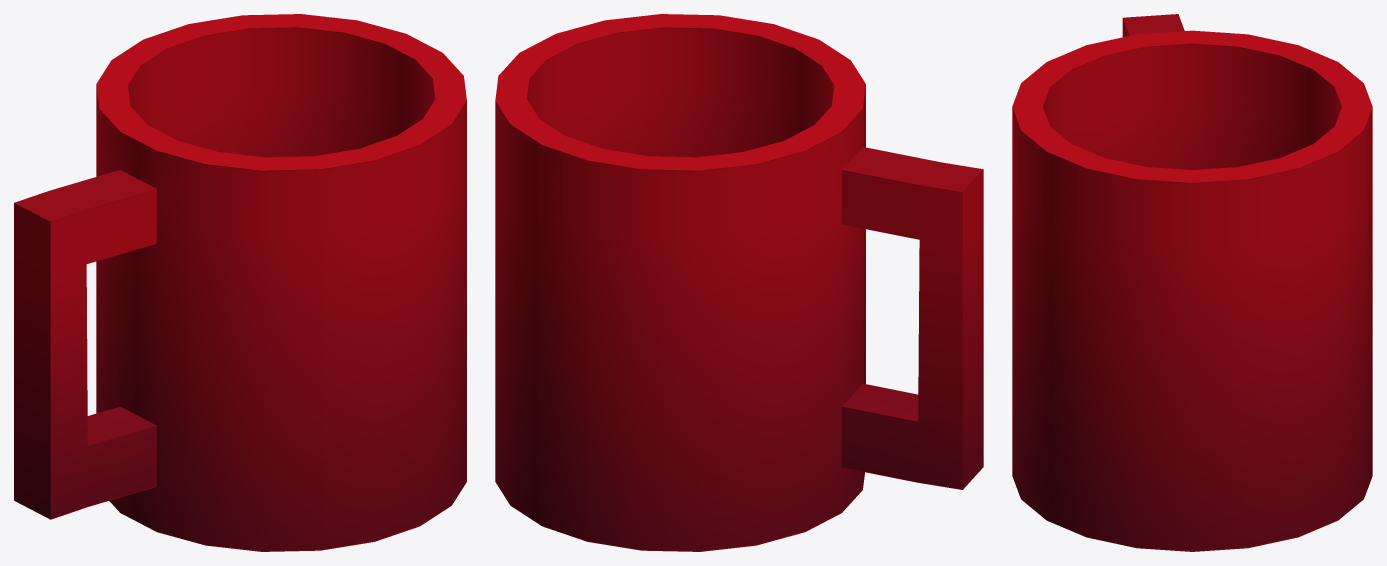
Rendered from mug 1.fbx.
3 views of the same model, side by side, from view 1: azimuth 30°, elevation 25°; view 2: azimuth 150°, elevation 25°; view 3: azimuth 270°, elevation 25° (orthographic). The views are drawn at different scales.
Parts seen in each view (by area): view 1: Mug; view 2: Mug; view 3: Mug.
Part boxes in pixels (x1,y1,x2,y2): Mug: (14, 14, 466, 551); Mug: (495, 14, 983, 551); Mug: (1012, 14, 1372, 551).
Size of the model in its own units: 2.31 by 1.93 by 1.71.
Materials: 1 (1 with a texture image).
